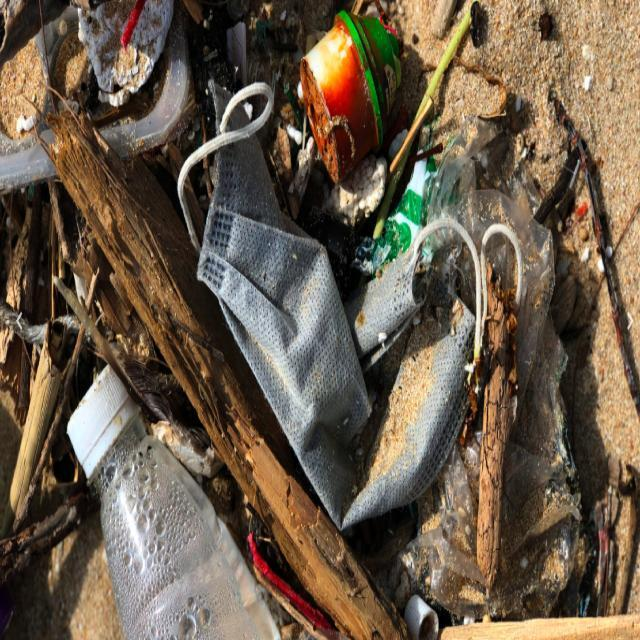Mask: (174, 73, 523, 544)
Plastic: (353, 118, 457, 278)
